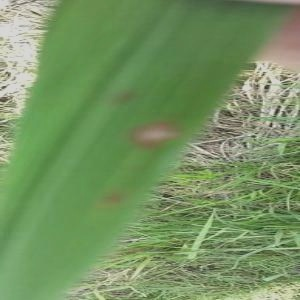Brown_Spot: (121, 105, 193, 154)
